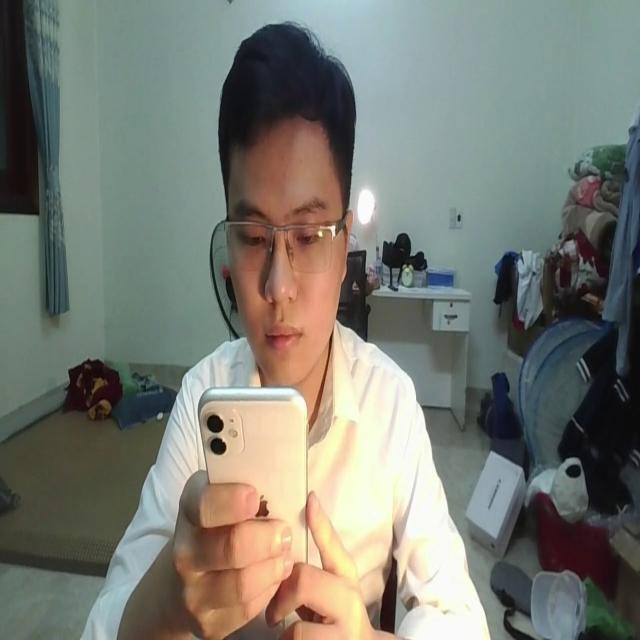phone: (196, 376, 313, 582)
student: (76, 24, 488, 640)
